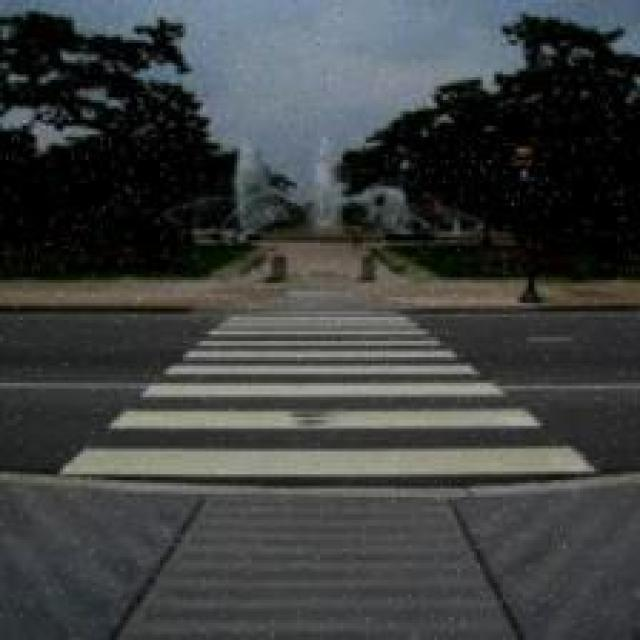zebra: (0, 307, 637, 496)
